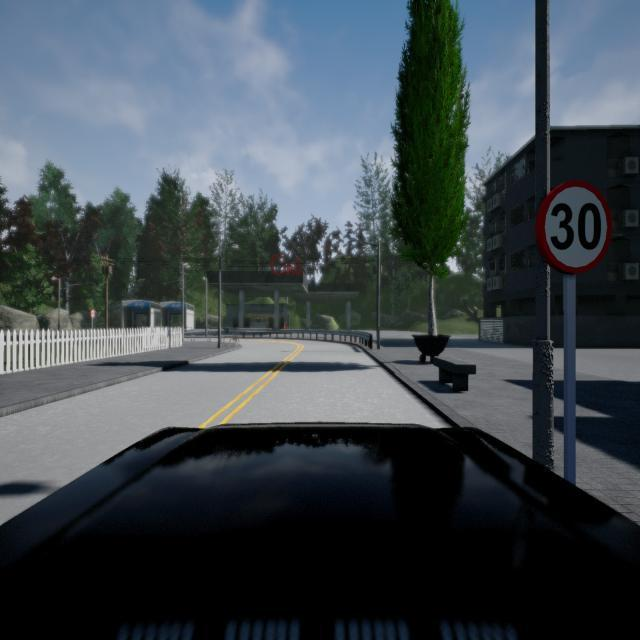Speed Limit -30-: (539, 184, 611, 274)
